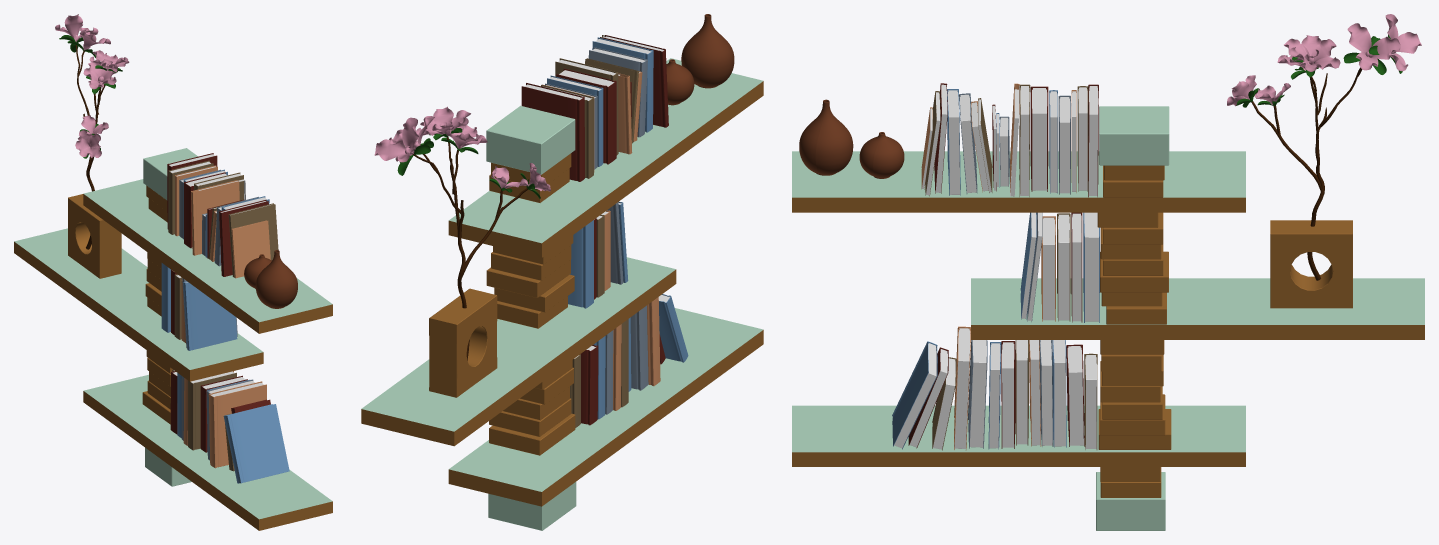
Rendered from Scaffale2.fbx.
3 views of the same model, side by side, from view 1: azimuth 30°, elevation 25°; view 2: azimuth 150°, elevation 25°; view 3: azimuth 270°, elevation 25° (orthographic). The views are drawn at different scales.
Parts seen in each view (by area): view 1: Scaffale2; view 2: Scaffale2; view 3: Scaffale2.
Part boxes in pixels (left/top/right/bottom): Scaffale2: left=14, top=14, right=332, bottom=530; Scaffale2: left=361, top=14, right=763, bottom=530; Scaffale2: left=792, top=14, right=1424, bottom=530.
Size of the model in its own units: 34.09 by 156 by 180.
